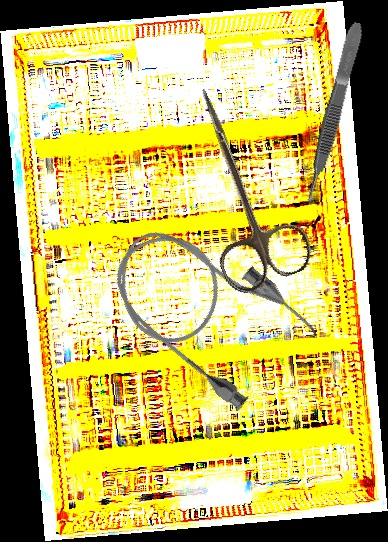Cannula: (91, 199, 325, 420)
Iris Scissors: (156, 73, 319, 299)
Tissue Forceps: (298, 20, 368, 203)
